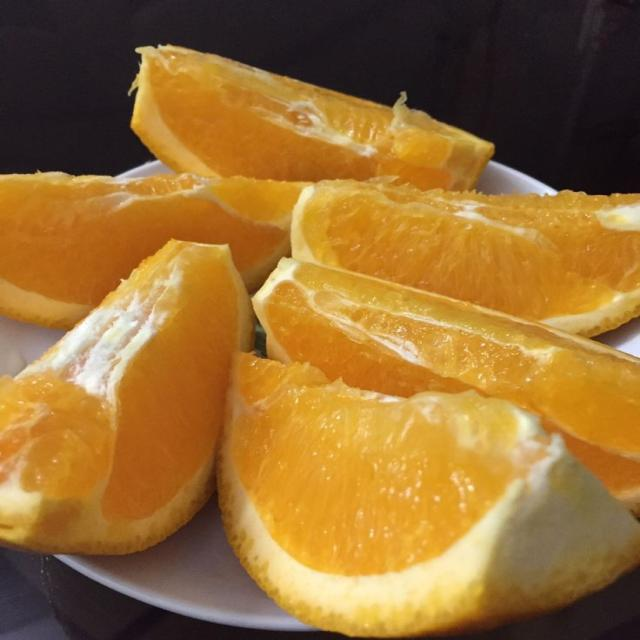orange: (218, 354, 639, 636), (254, 259, 639, 511), (0, 241, 253, 553), (293, 181, 639, 335), (132, 46, 493, 188), (0, 173, 303, 328)
